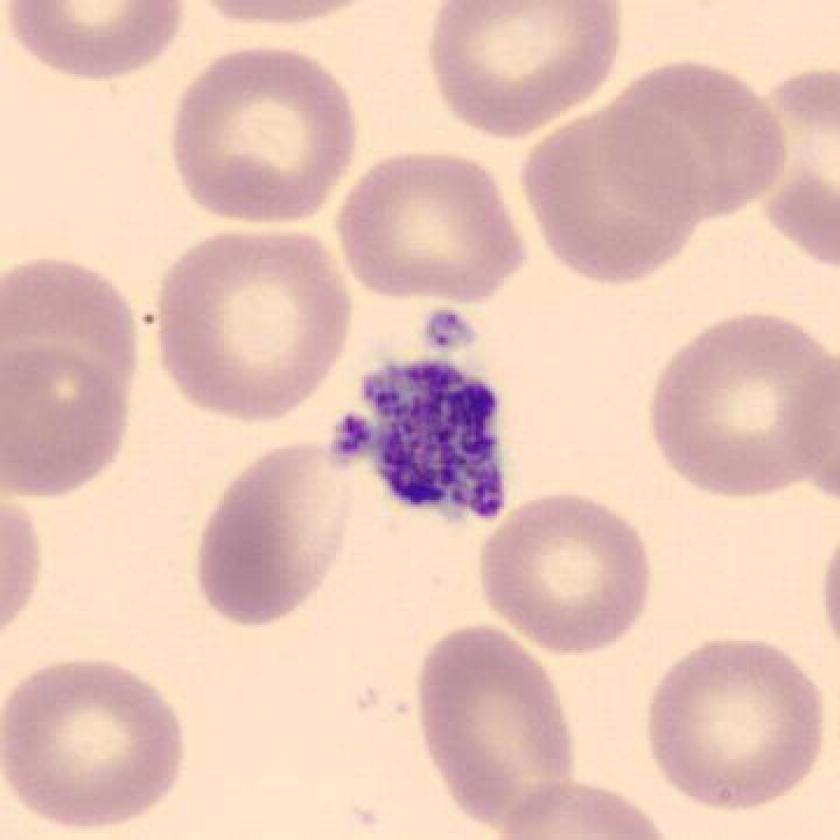platelets: (365, 350, 517, 538), (412, 302, 486, 360), (323, 408, 384, 466)
